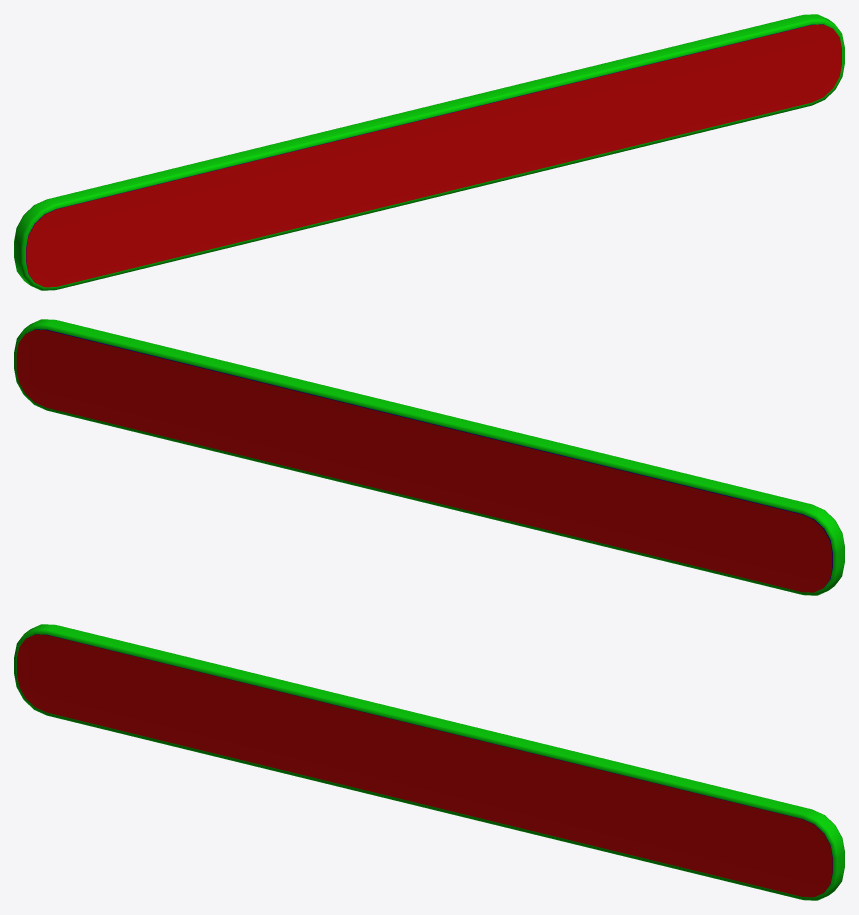
Rendered from Title.obj.
The picture shows the model from 3 angles, top to bottom: view 1: azimuth 30°, elevation 25°; view 2: azimuth 150°, elevation 25°; view 3: azimuth 330°, elevation 25°; orthographic projection.
Visible parts, largest first — view 1: title_image_Untitled.002, title_frame_Untitled.001, title_backdrop_Untitled; view 2: title_image_Untitled.002, title_frame_Untitled.001, title_backdrop_Untitled; view 3: title_image_Untitled.002, title_frame_Untitled.001, title_backdrop_Untitled.
Part boxes in pixels (x1,y1,x2,y2): title_image_Untitled.002: (26, 24, 841, 287); title_frame_Untitled.001: (14, 14, 844, 290); title_backdrop_Untitled: (26, 24, 828, 274); title_image_Untitled.002: (16, 329, 832, 592); title_frame_Untitled.001: (14, 319, 844, 595); title_backdrop_Untitled: (28, 329, 832, 587); title_image_Untitled.002: (17, 634, 832, 897); title_frame_Untitled.001: (14, 624, 844, 900); title_backdrop_Untitled: (30, 634, 832, 884).
Bounding box in the file's own units: 4.88 × 0.4896 × 0.1009.
